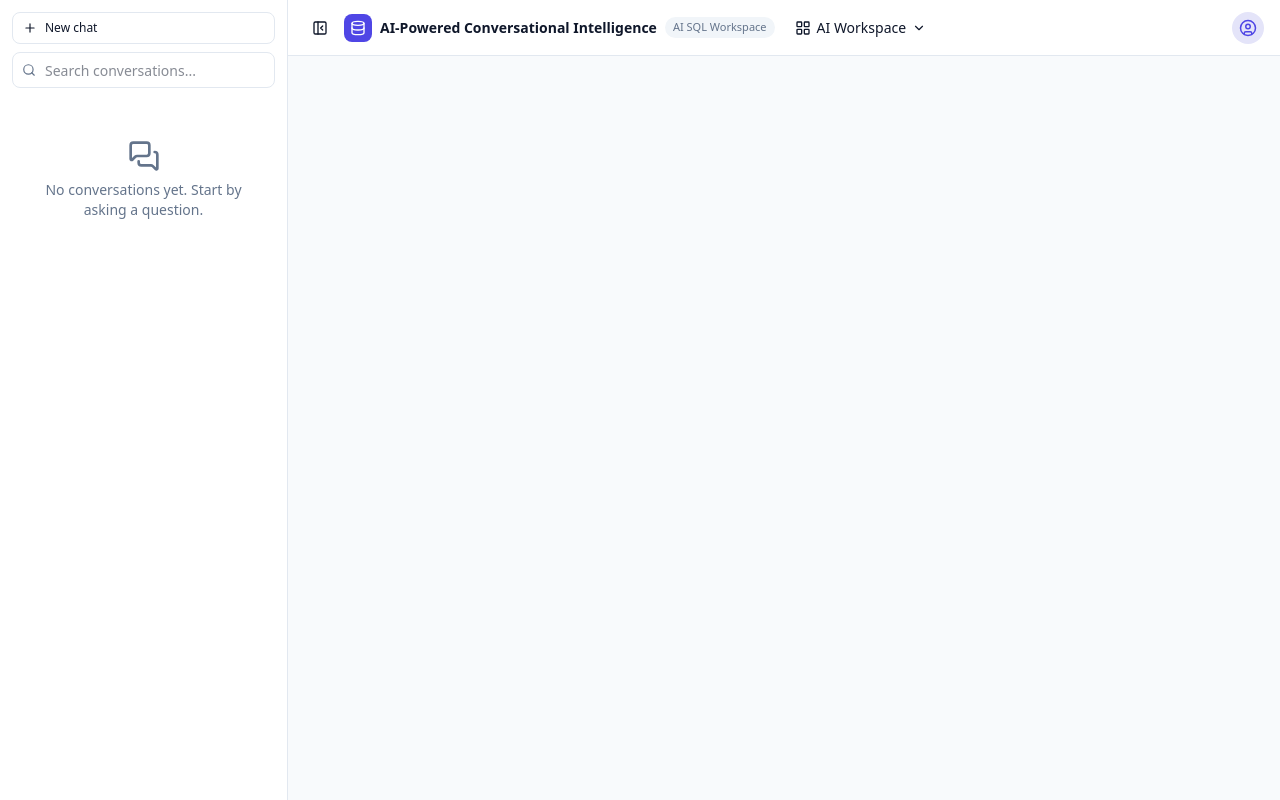
Test: AppShell role-gated review-tool nav gating › shows both review tabs for an admin
The width and height of the screenshot is (1280, 800).
Click the button "AI Workspace" at [860, 28], box [782,12,938,44]
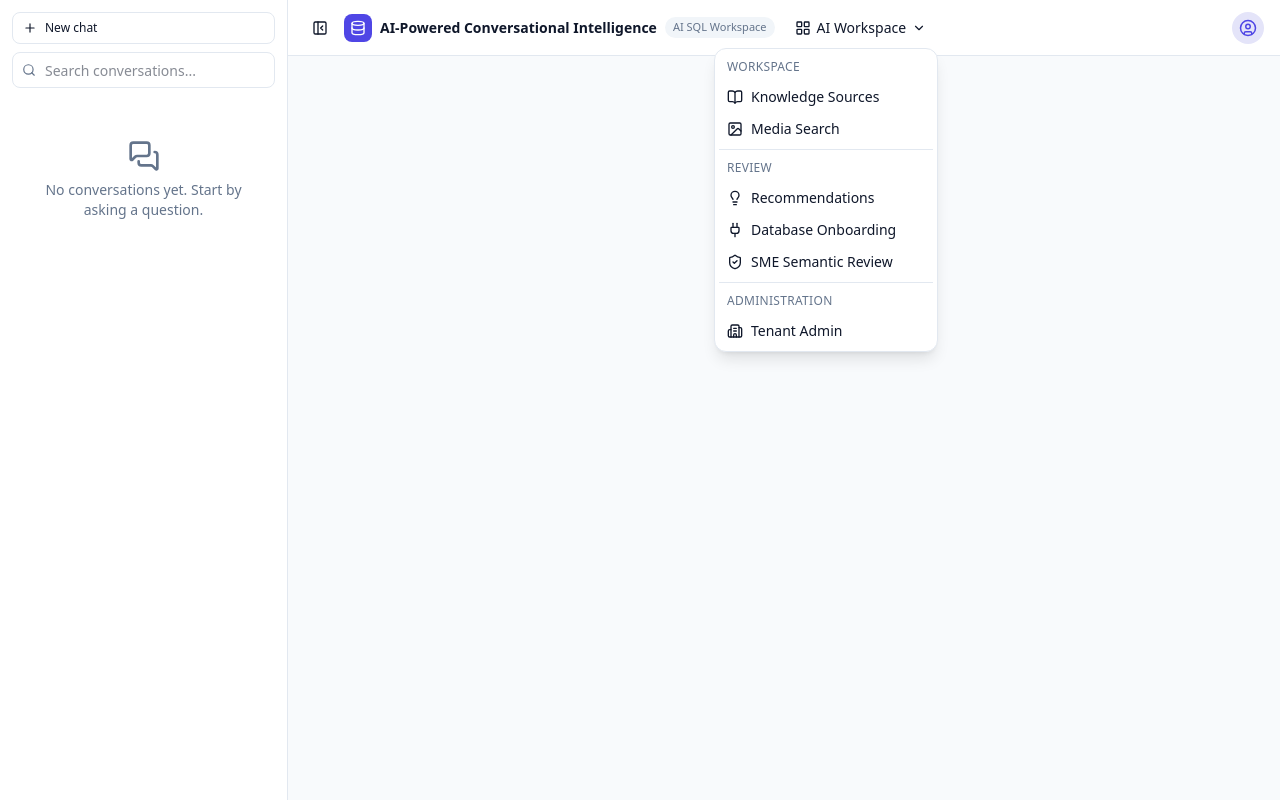
expect the menu item "Database Onboarding" is shown: met, box [727,220,896,239]
expect the menu item "SME Semantic Review" is shown: met, box [727,252,893,271]
